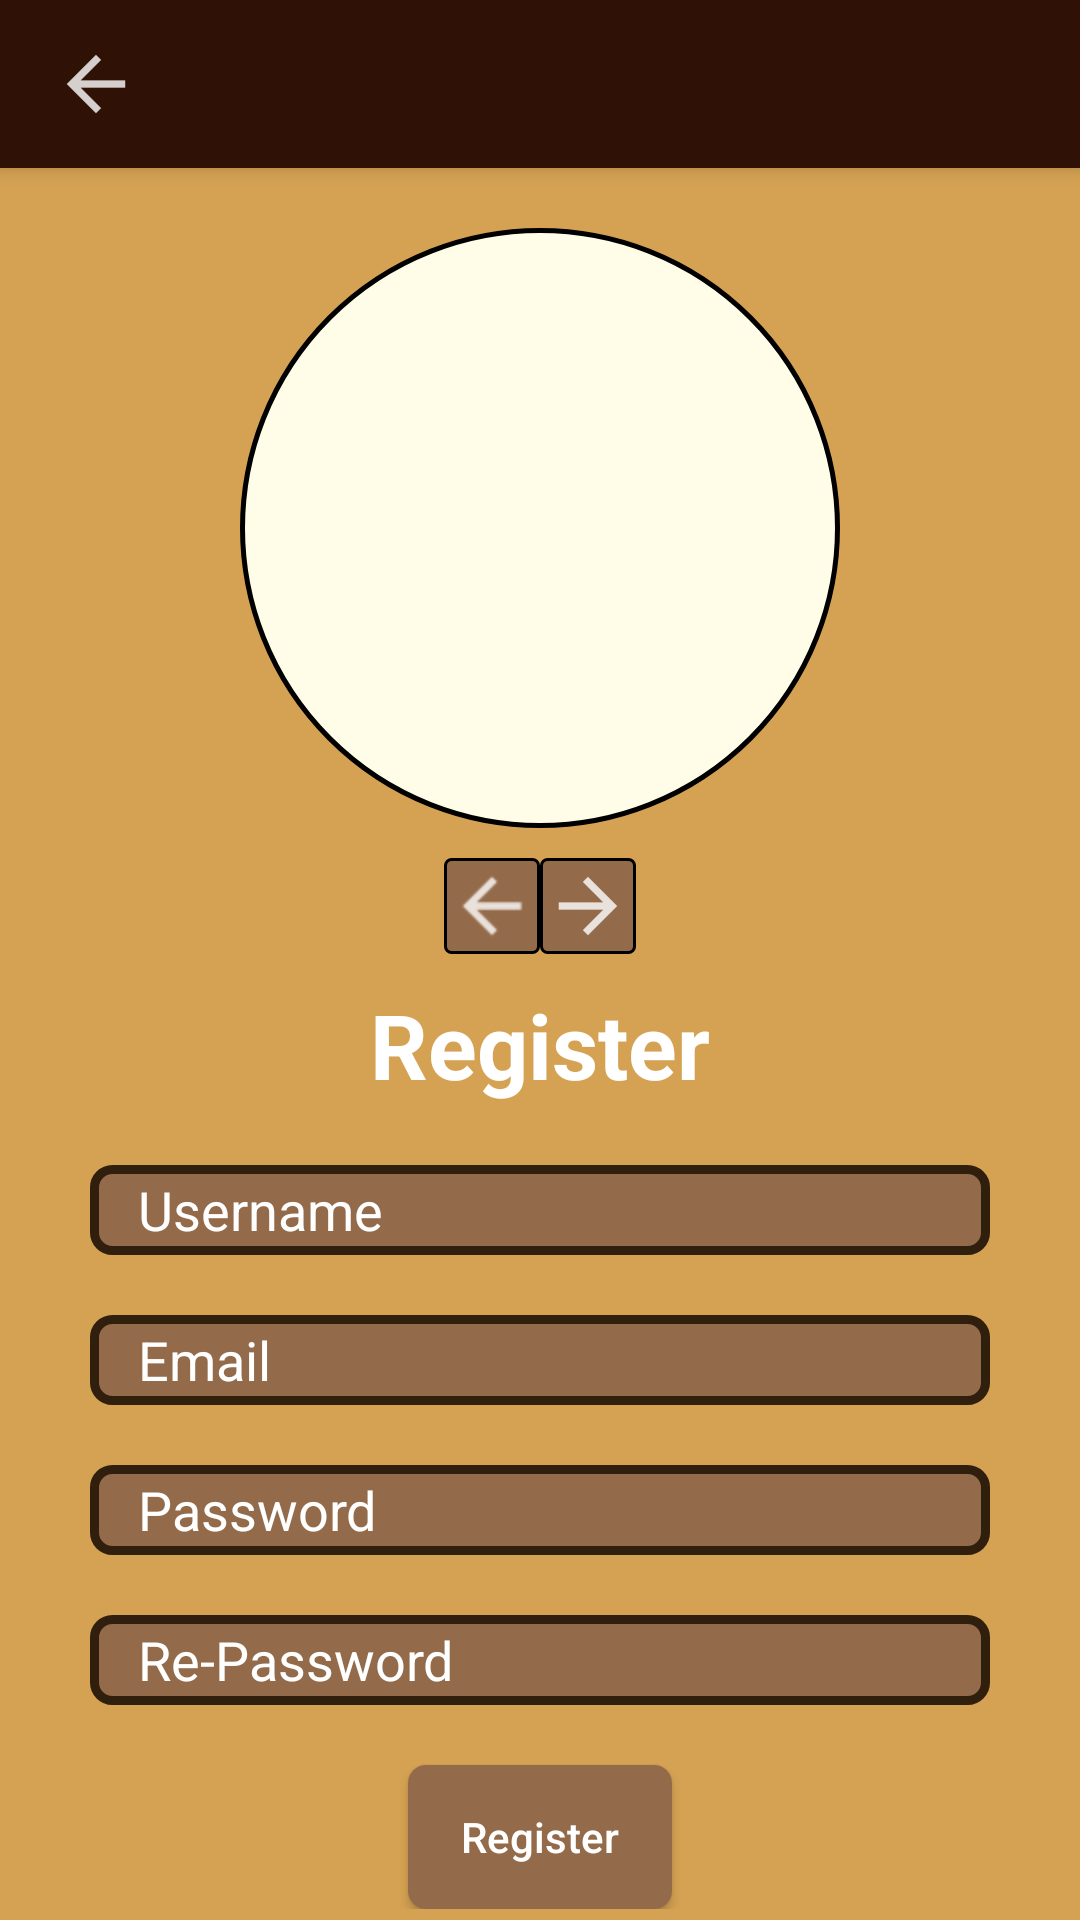

Locate icon controls on the screen. Image size 1080 × 1920, boxes as [left=x1, top=y1, right=x2, bottom=y2].
arrow left: [left=444, top=858, right=540, bottom=954]
arrow right: [left=540, top=858, right=636, bottom=954]
back: [left=67, top=55, right=126, bottom=113]
